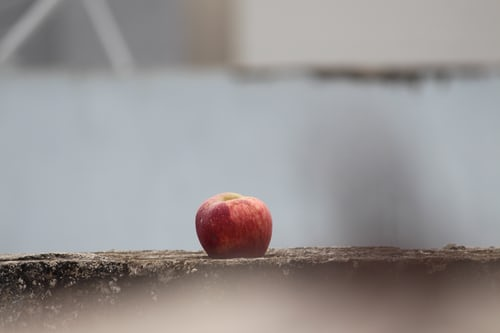apple: (189, 193, 272, 258)
